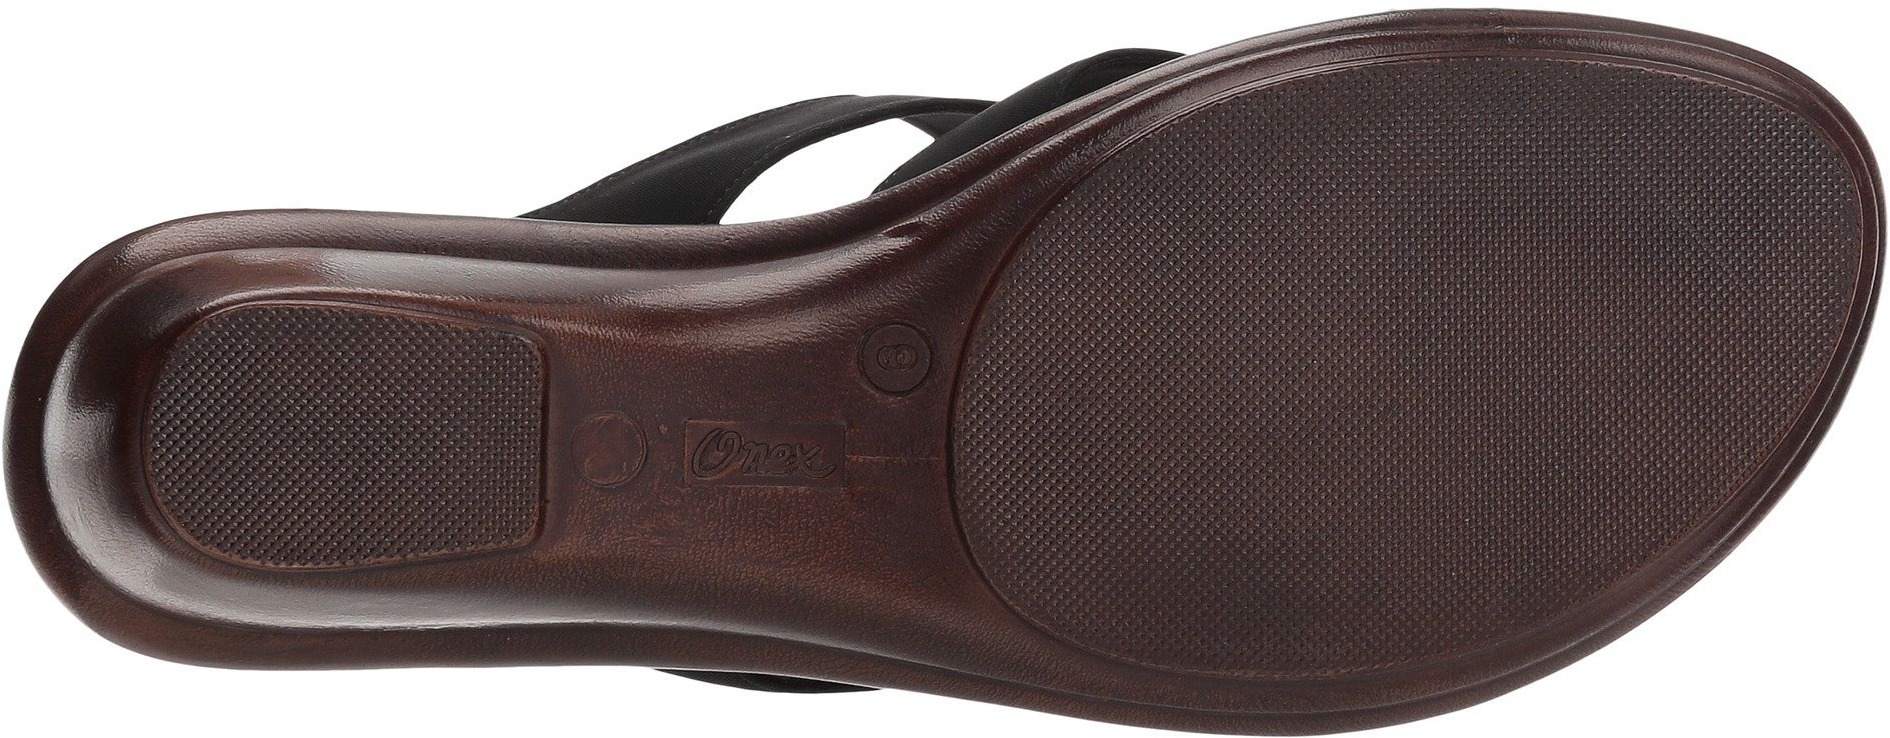circle: (947, 55, 1856, 675), (846, 299, 951, 417), (560, 402, 667, 503), (567, 412, 658, 497), (861, 328, 937, 396)
quad: (121, 289, 554, 576)
text: (846, 299, 951, 417), (687, 418, 845, 484), (869, 341, 931, 375)
